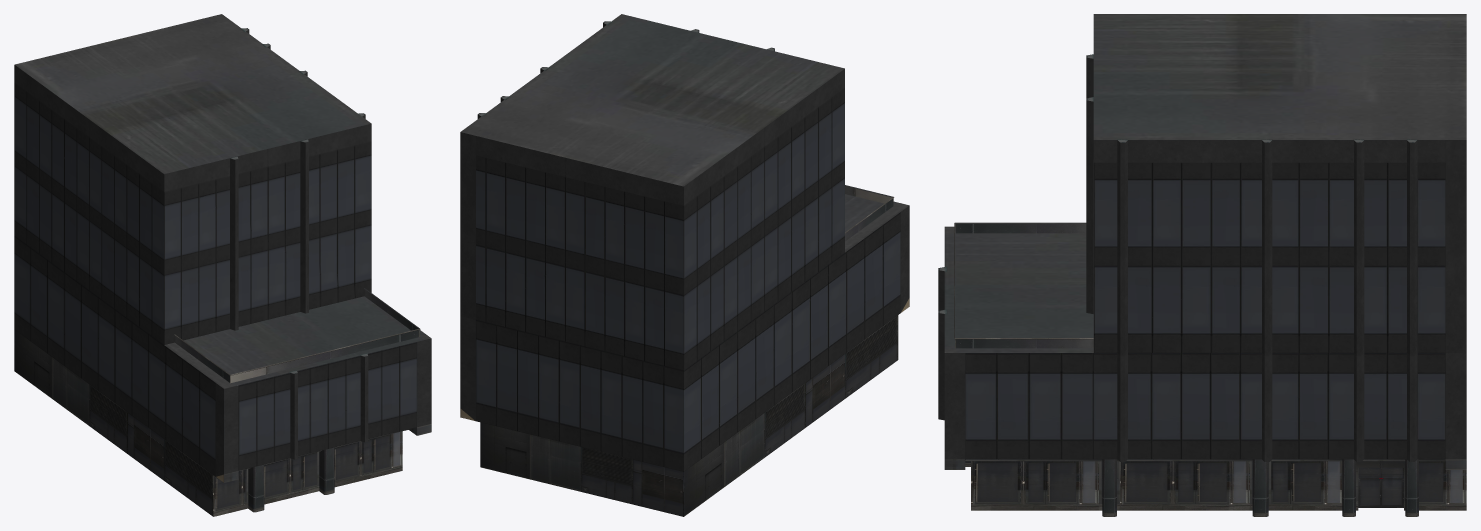
File: downtown_modernoffice_3.glb
3 views of the same model, side by side, from view 1: azimuth 30°, elevation 25°; view 2: azimuth 150°, elevation 25°; view 3: azimuth 270°, elevation 25° (orthographic). The views are drawn at different scales.
Visible parts, largest first — view 1: Downtown_ModernOffice_3_Downtown_Facade_FLR_7_0, Downtown_ModernOffice_3_Downtown_Modern_Firstfloor_FLR_1_0; view 2: Downtown_ModernOffice_3_Downtown_Facade_FLR_7_0, Downtown_ModernOffice_3_Downtown_Modern_Firstfloor_FLR_1_0; view 3: Downtown_ModernOffice_3_Downtown_Facade_FLR_7_0, Downtown_ModernOffice_3_Downtown_Modern_Firstfloor_FLR_1_0.
Part boxes in pixels (box(x1,y1,x2,y2)): Downtown_ModernOffice_3_Downtown_Facade_FLR_7_0: box(14, 28, 431, 476); Downtown_ModernOffice_3_Downtown_Modern_Firstfloor_FLR_1_0: box(14, 14, 431, 516); Downtown_ModernOffice_3_Downtown_Facade_FLR_7_0: box(460, 21, 909, 471); Downtown_ModernOffice_3_Downtown_Modern_Firstfloor_FLR_1_0: box(460, 14, 909, 516); Downtown_ModernOffice_3_Downtown_Facade_FLR_7_0: box(938, 54, 1466, 461); Downtown_ModernOffice_3_Downtown_Modern_Firstfloor_FLR_1_0: box(944, 14, 1466, 516).
Size of the model in its own units: 13.31 by 18.39 by 23.03.
Materials: 2 (2 with a texture image).
